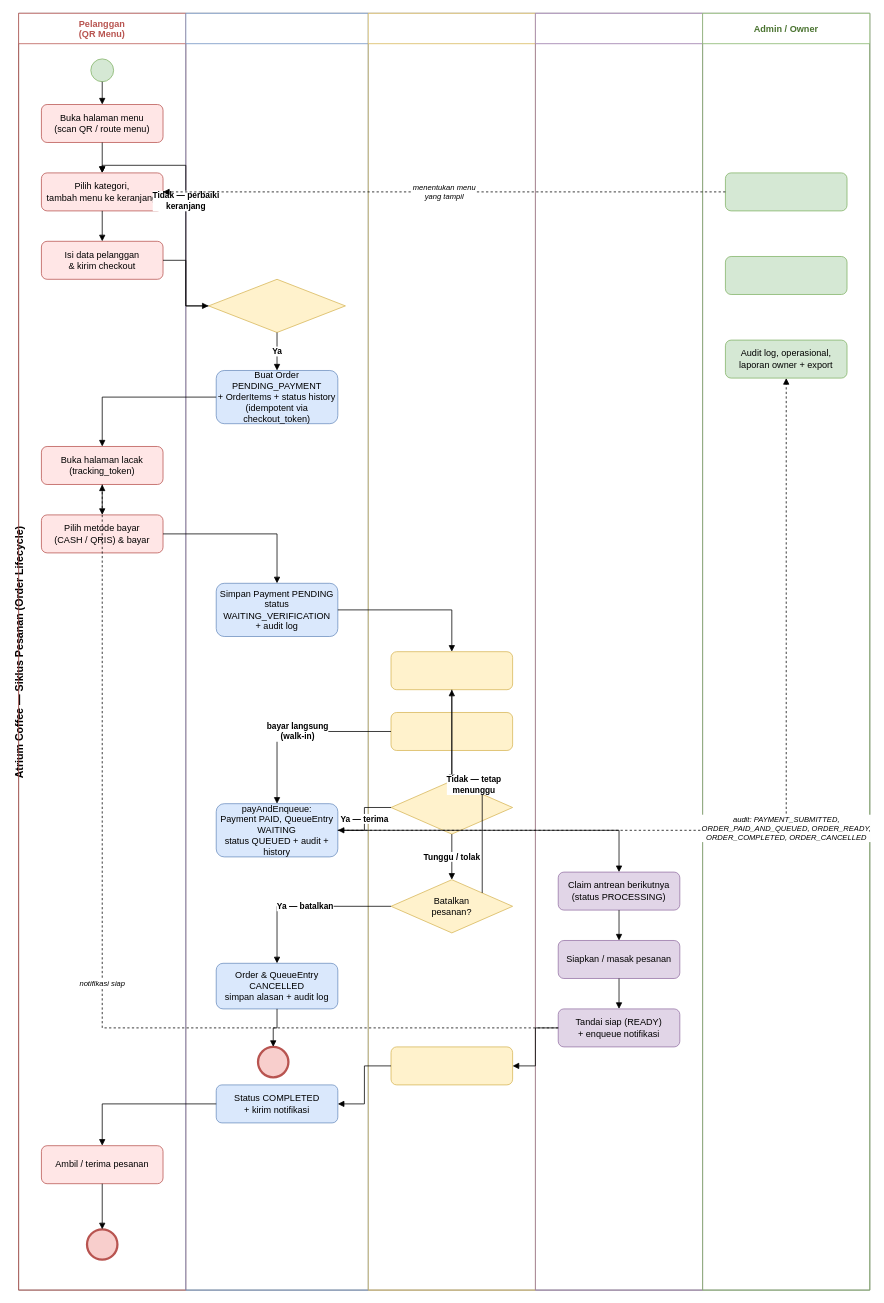
Image size: 884x1303. Some labels were removed from this diagram. Each missing label, with the box of its shape:
Cek pembayaran pending di kasir: (390, 651, 513, 690)
CRUD kategori & menu toggle availabilitas: (725, 172, 847, 211)
Dapur (KITCHEN / ADMIN): (535, 13, 703, 1290)
Input order walk-in langsung di kasir: (390, 712, 513, 750)
Kasir (CASHIER / ADMIN): (367, 13, 535, 1290)
Kelola user, role & pengaturan aplikasi: (725, 256, 847, 294)
Menu tersedia & data valid?: (208, 279, 345, 332)
Panggil & serahkan pesanan, tandai selesai: (390, 1046, 513, 1085)
Sistem (CheckoutService / QueueService): (185, 13, 368, 1290)
Verifikasi pembayaran?: (390, 780, 513, 834)
